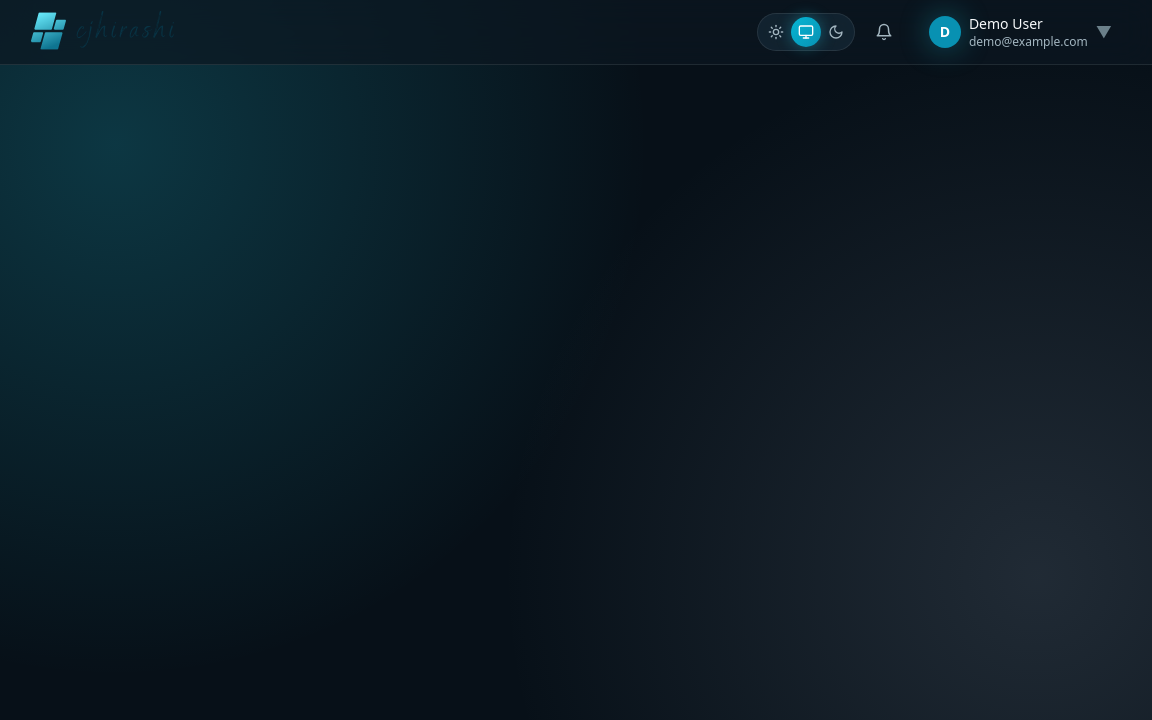
it: Navbar › dropdown menu › should open dropdown when user menu clicked
Click the button with aria-label "User menu" at (1020,32), box x1=913 y1=6 x2=1128 y2=58
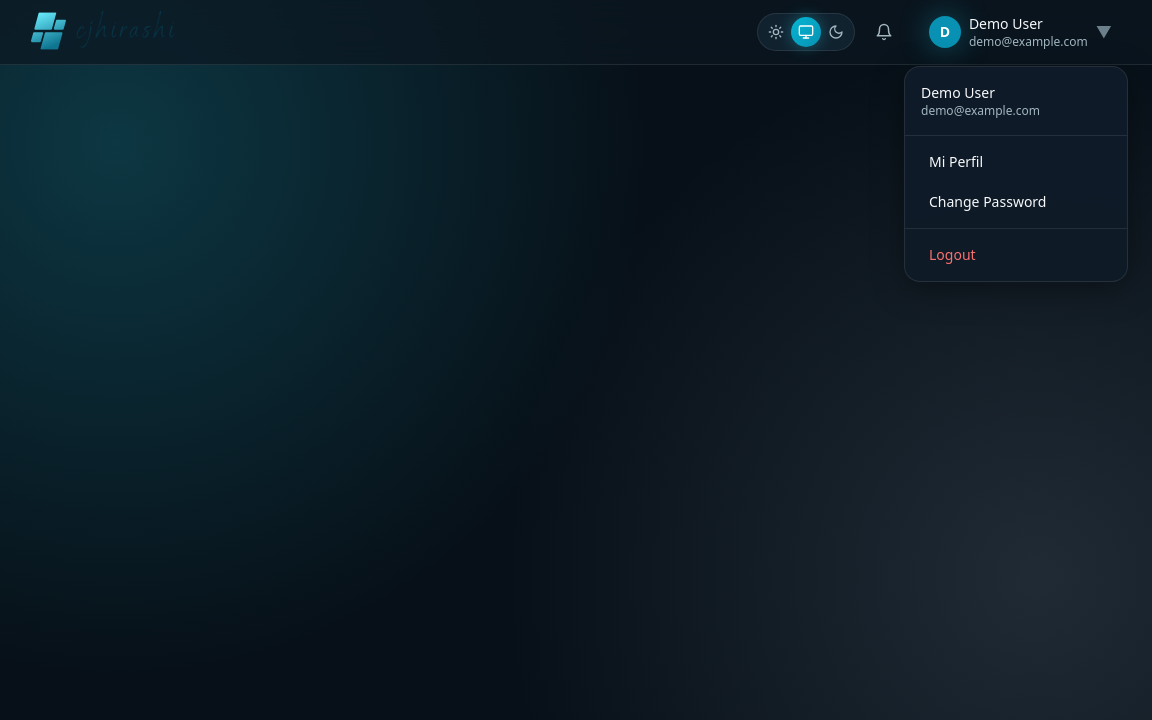
Check: the link "Change Password" is shown, box x1=929 y1=192 x2=1046 y2=211
